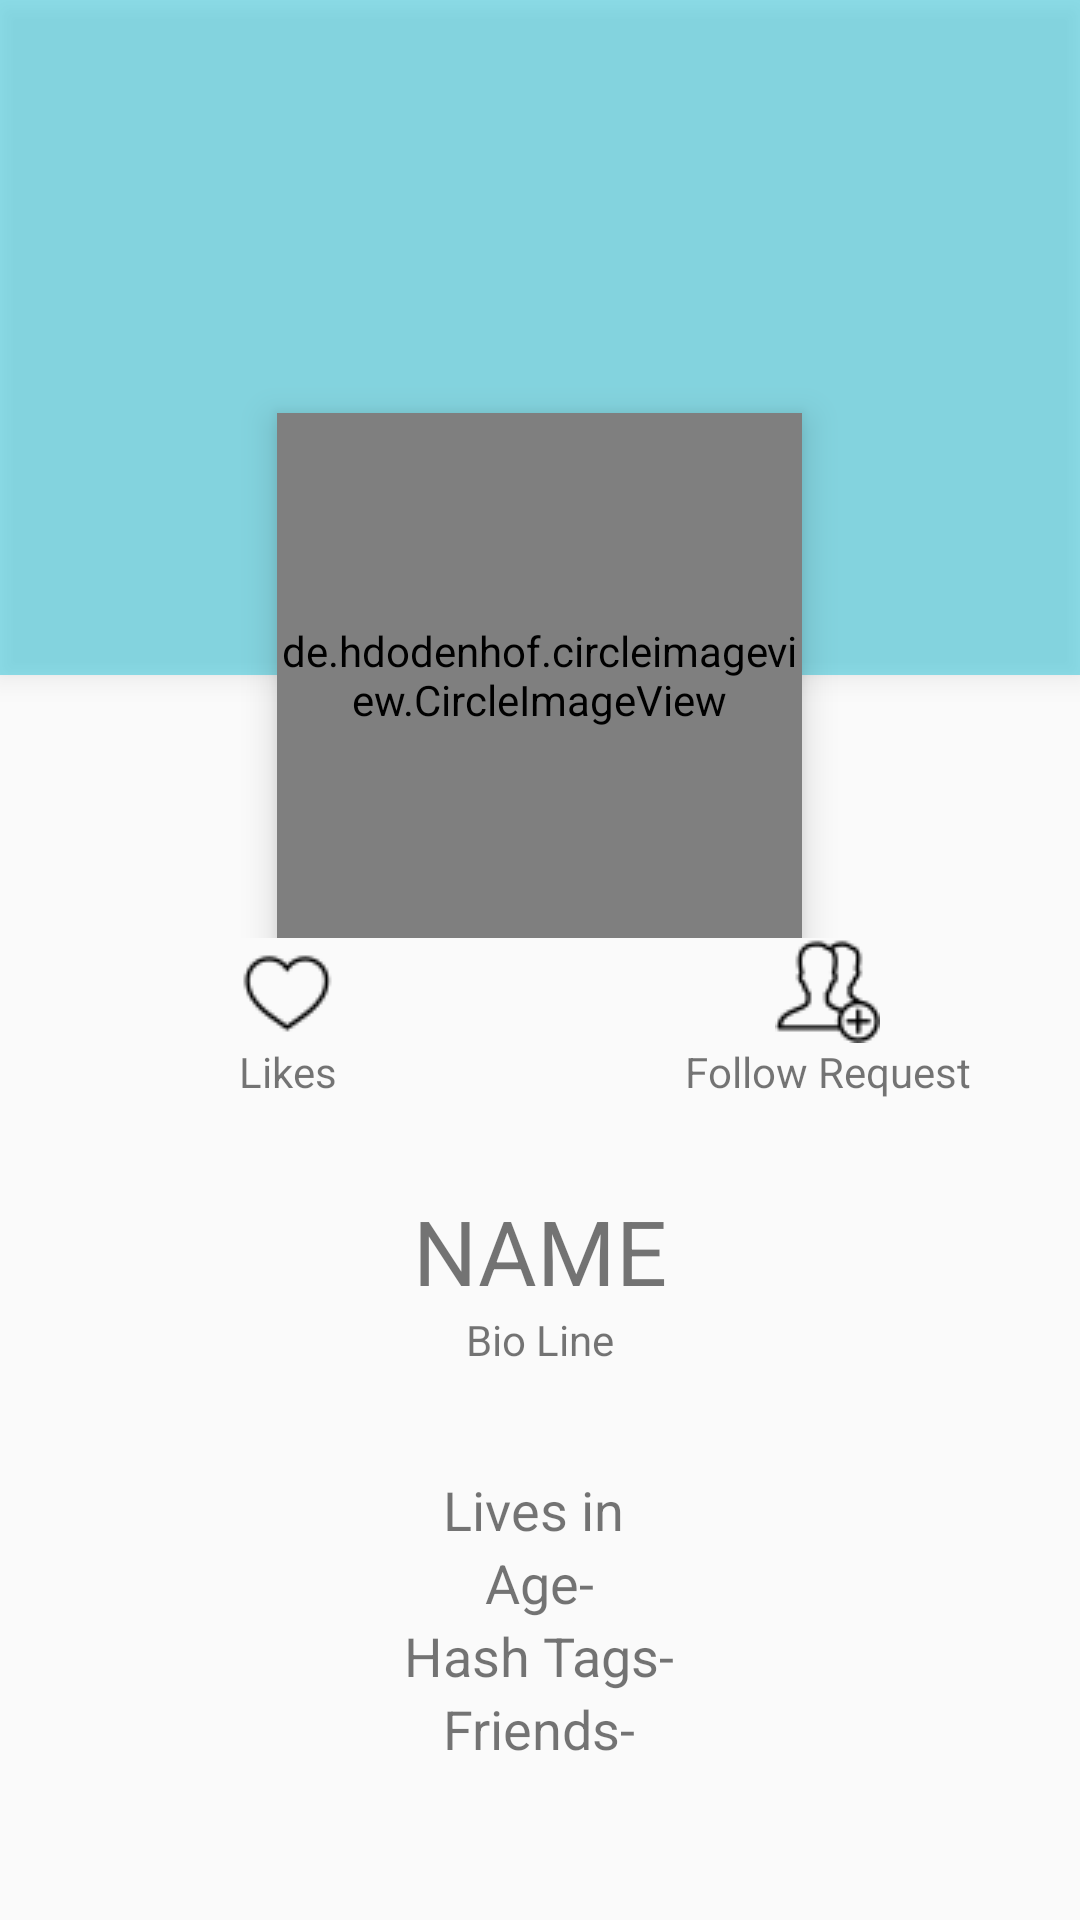

Named icons in this screenshot (1080px x 1920px) and their centers, point (x, y):
empty heart: point (287, 993)
